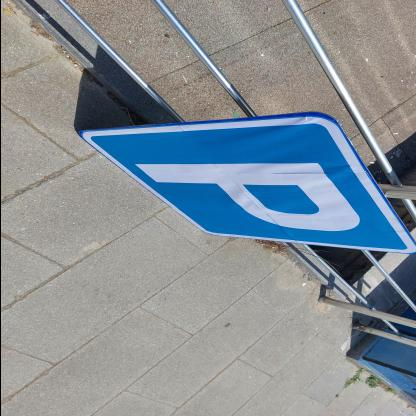Parking-Sign: (72, 112, 416, 256)
